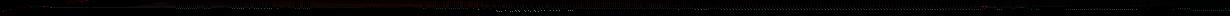Blue cone: (21, 7, 26, 8), (8, 9, 11, 10)
Yellow cone: (647, 4, 665, 7)
